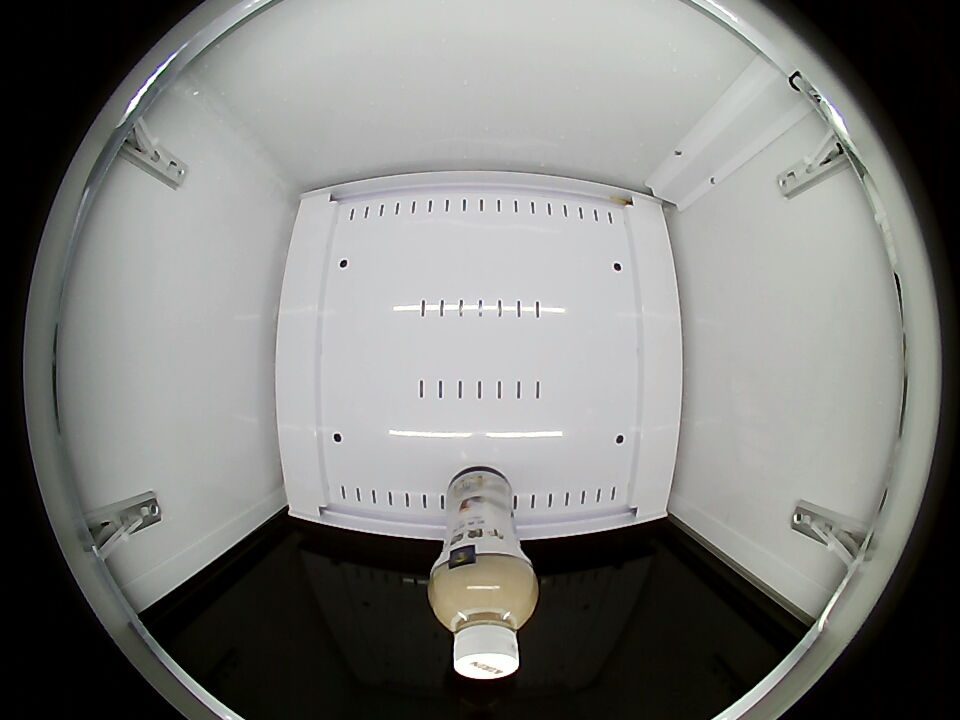wuhounaicha: (429, 555, 539, 680)
